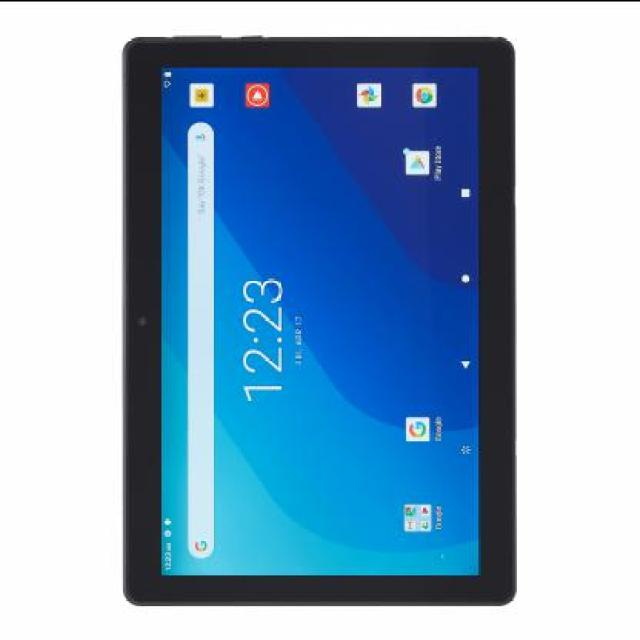tablet: (93, 0, 550, 574)
